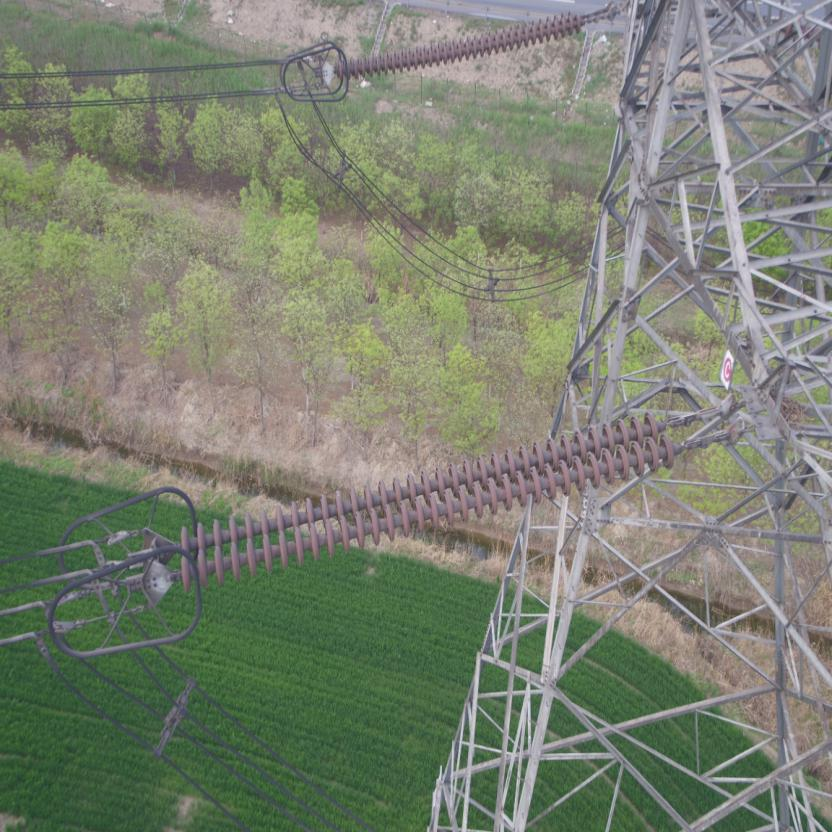insulator: (166, 407, 696, 595), (330, 8, 595, 83)
